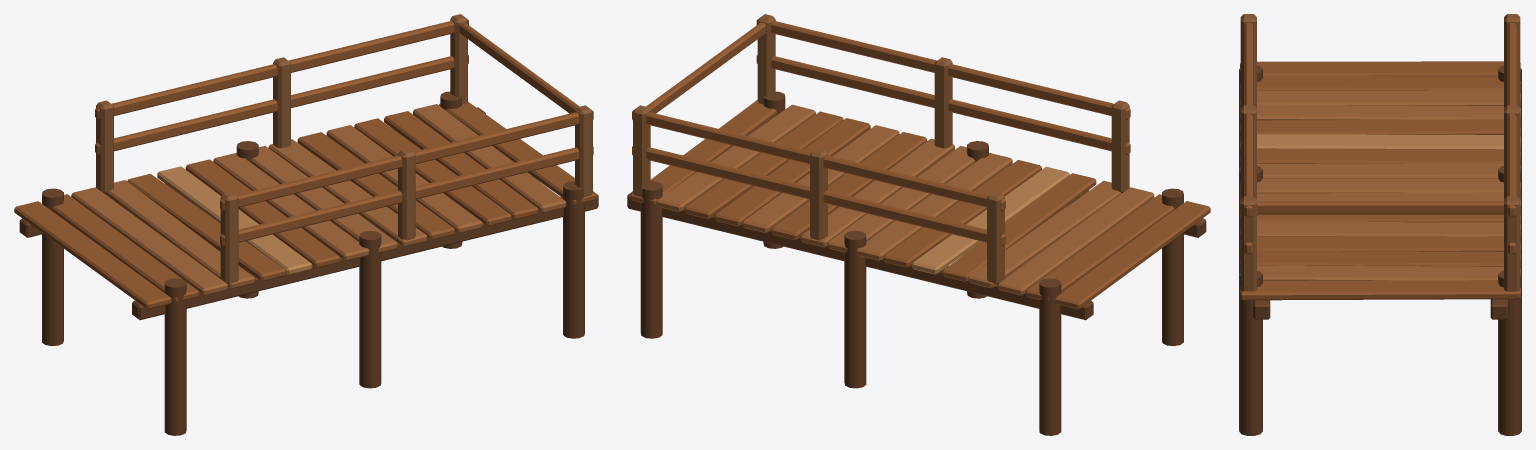
Rendered from deck.glb.
The picture shows the model from 3 angles, left to right: view 1: azimuth 30°, elevation 25°; view 2: azimuth 150°, elevation 25°; view 3: azimuth 270°, elevation 25°; orthographic projection. The views are drawn at different scales.
Visible parts, largest first — view 1: deck; view 2: deck; view 3: deck.
Part boxes in pixels (x1,y1,x2,y2): deck: (14, 14, 598, 435); deck: (627, 14, 1210, 435); deck: (1239, 14, 1521, 435).
Size of the model in its own units: 5.2 by 2.43 by 2.62.
